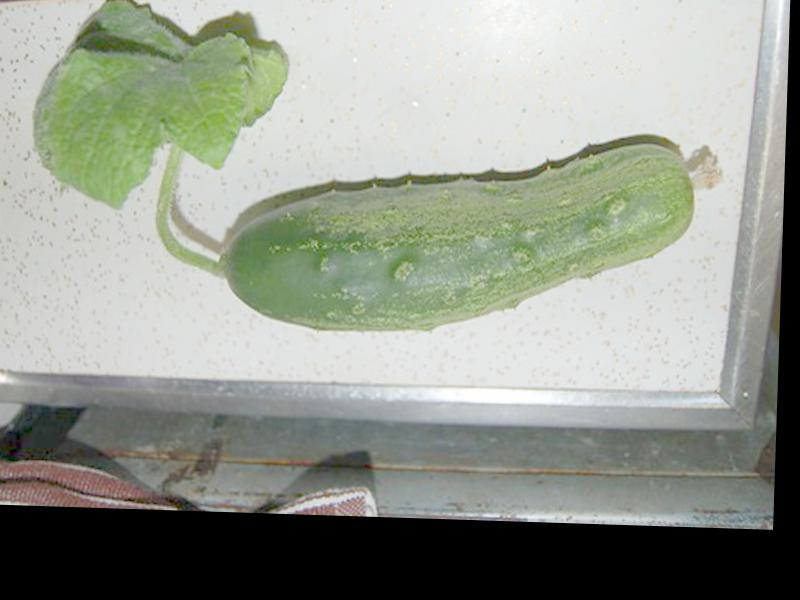Cucumber: (216, 126, 724, 344)
